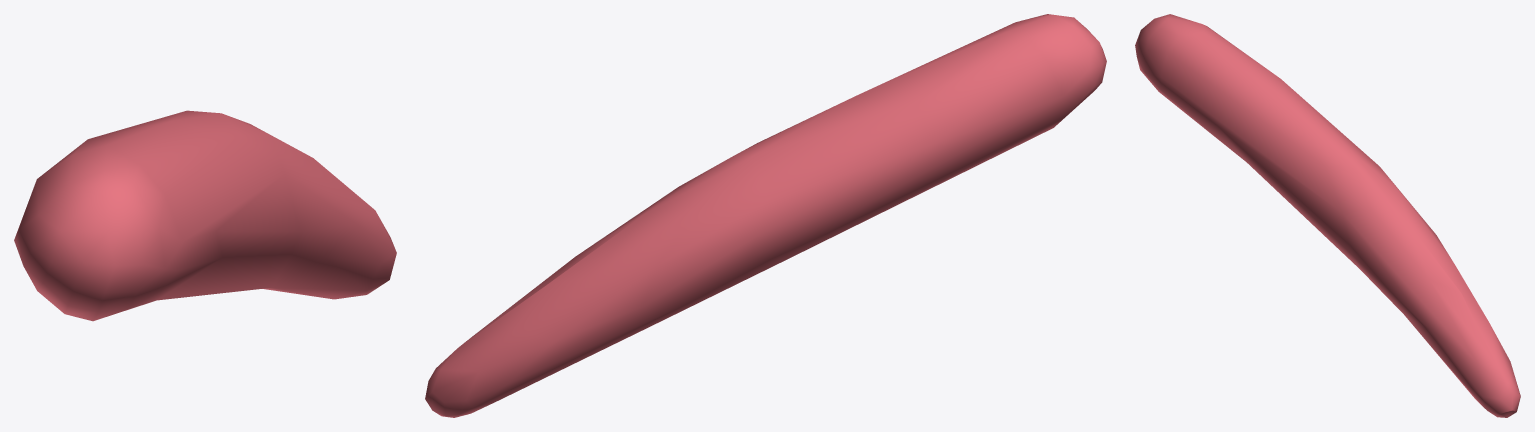
Rendered from fma8639_fj2901.glb.
3 renders of one model, left to right at view 1: azimuth 30°, elevation 25°; view 2: azimuth 150°, elevation 25°; view 3: azimuth 270°, elevation 25°, orthographic. The views are drawn at different scales.
Visible parts, largest first — view 1: FMA8639_FJ2901; view 2: FMA8639_FJ2901; view 3: FMA8639_FJ2901.
Part boxes in pixels (x1=…): FMA8639_FJ2901: x1=14, y1=110, x2=396, y2=321; FMA8639_FJ2901: x1=425, y1=14, x2=1106, y2=417; FMA8639_FJ2901: x1=1135, y1=14, x2=1520, y2=417.
Bounding box in the file's own units: 0.0101 × 0.00716 × 0.00981.
